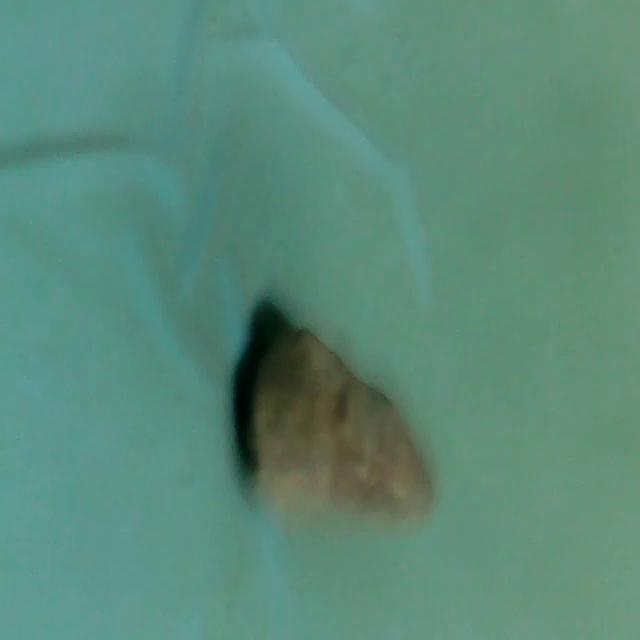rock: (239, 320, 447, 538)
